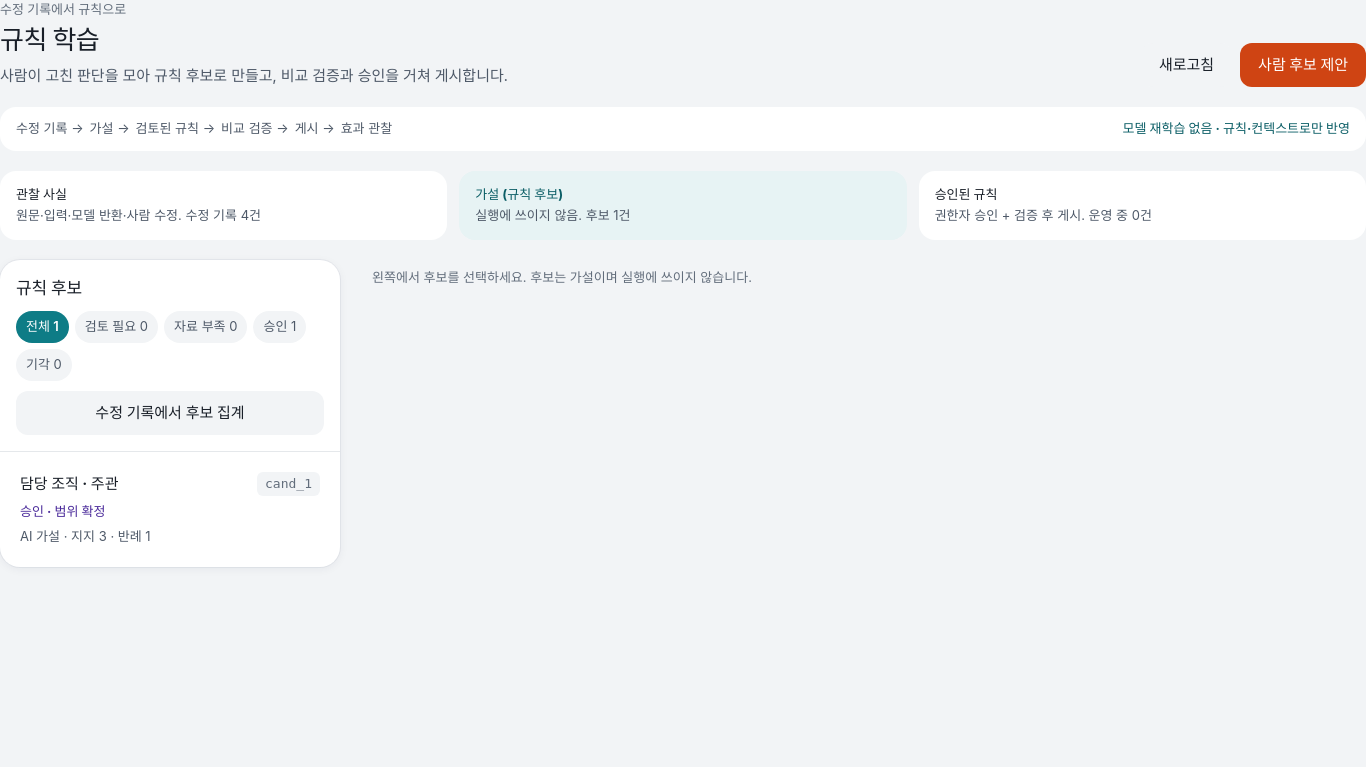
validation inputs (P4-02) › disables 검증 실행 with a Korean hint when a date is cleared, and never throws
The image size is (1366, 767).
Click the button "담당 조직 · 주관 cand_1 승인 · 범위 확정 AI 가설 · 지지 3 · 반례 1": (69, 483) top-left (8, 460), bottom-right (332, 558)
(page scrolled)
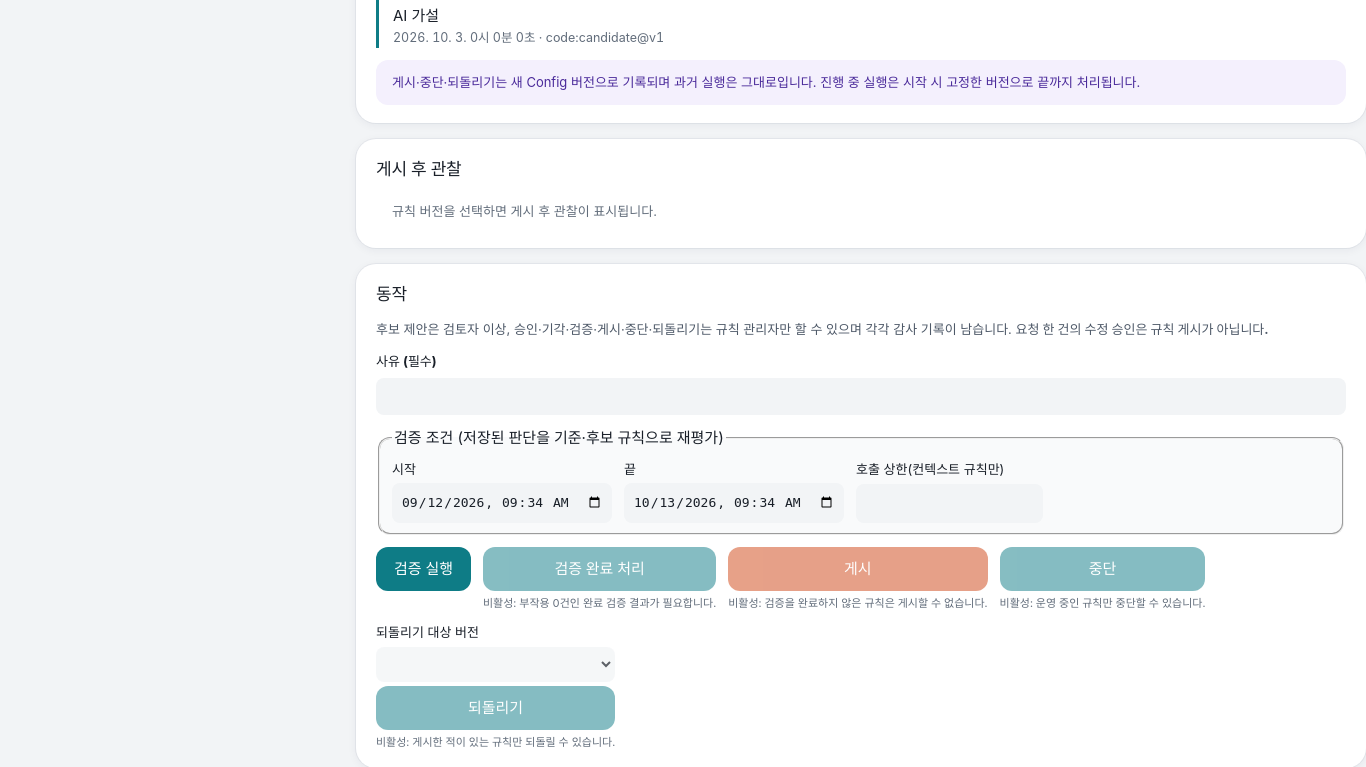
Clear the field named "검증 시작": (502, 503) top-left (392, 483), bottom-right (612, 523)
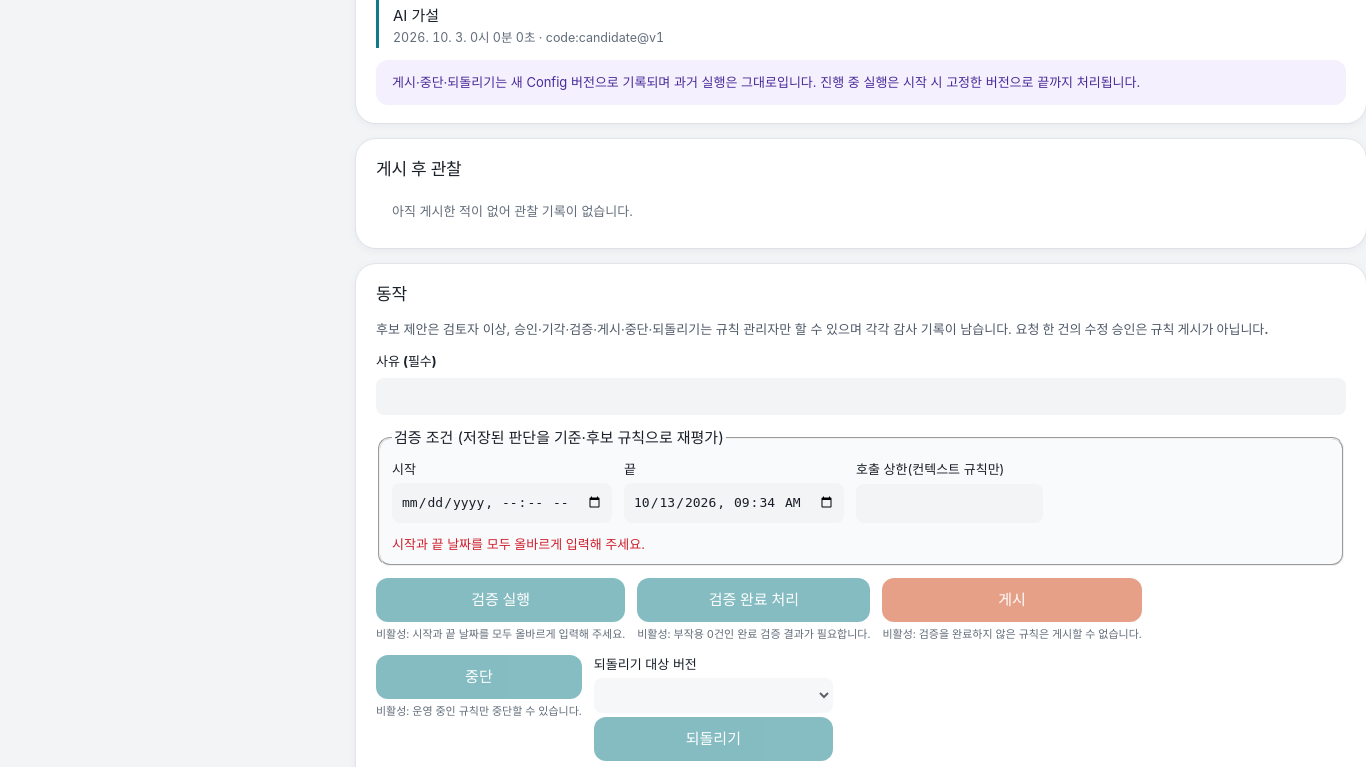
Result: the button "검증 실행" is disabled at top-left (376, 578), bottom-right (625, 622)
Result: the text "시작과 끝 날짜를 모두 올바르게 입력해 주세요." is shown at top-left (392, 536), bottom-right (645, 552)
In the field named "검증 시작": (502, 503) top-left (392, 483), bottom-right (612, 523), type "2999-01-01T00:00"
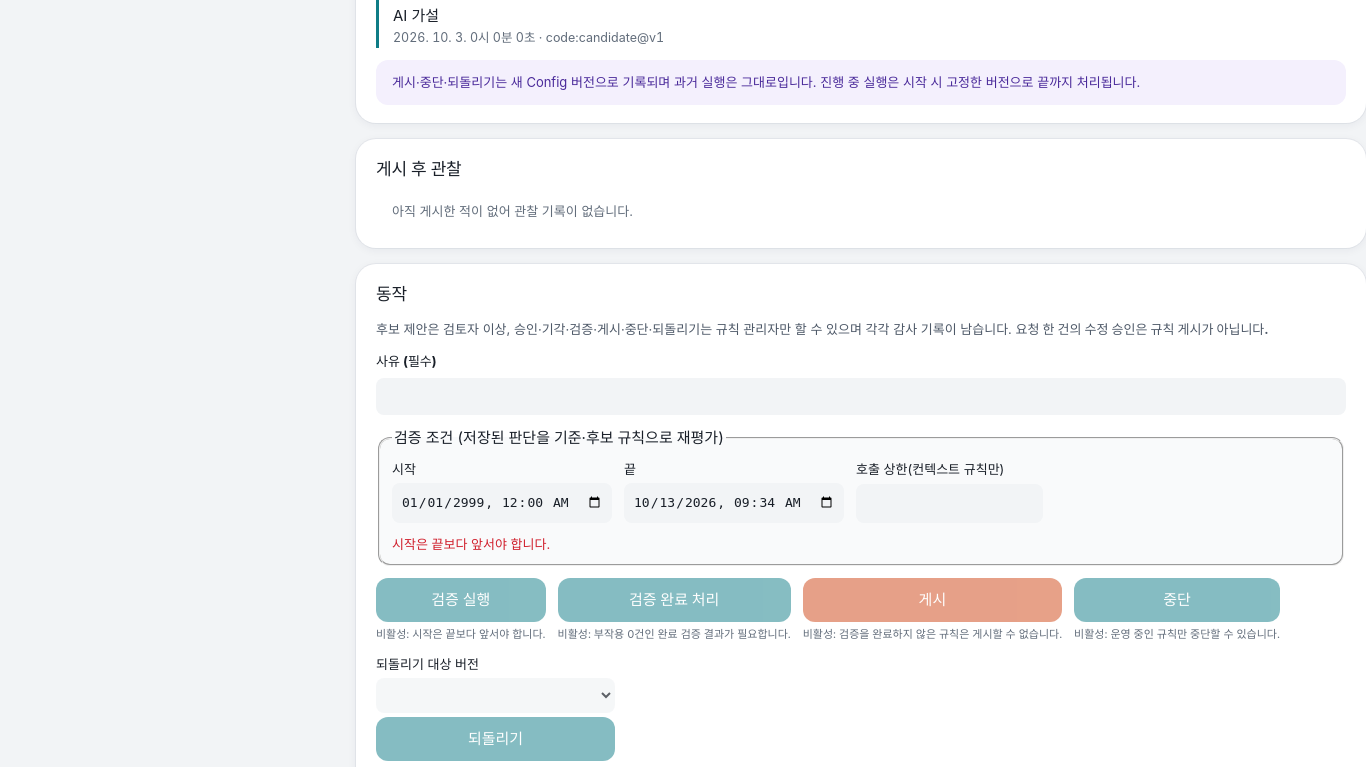
Result: the button "검증 실행" is disabled at top-left (376, 578), bottom-right (546, 622)
Result: the text "시작은 끝보다 앞서야 합니다." is shown at top-left (392, 536), bottom-right (550, 552)
